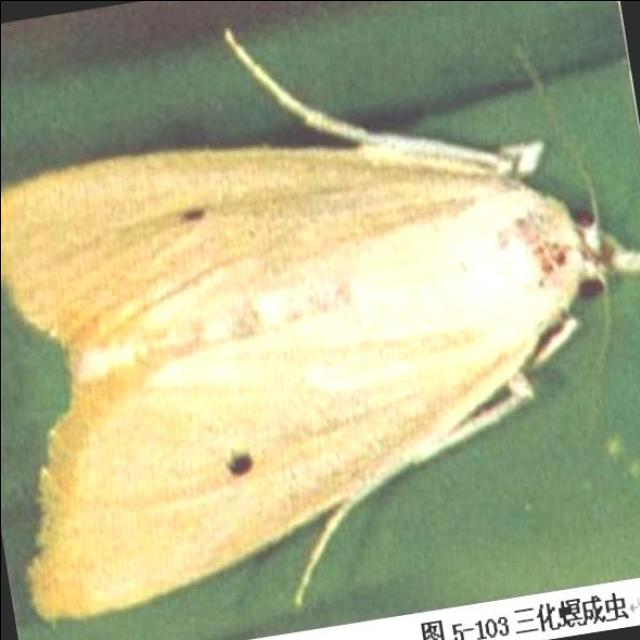stem borer: (0, 40, 640, 617)
